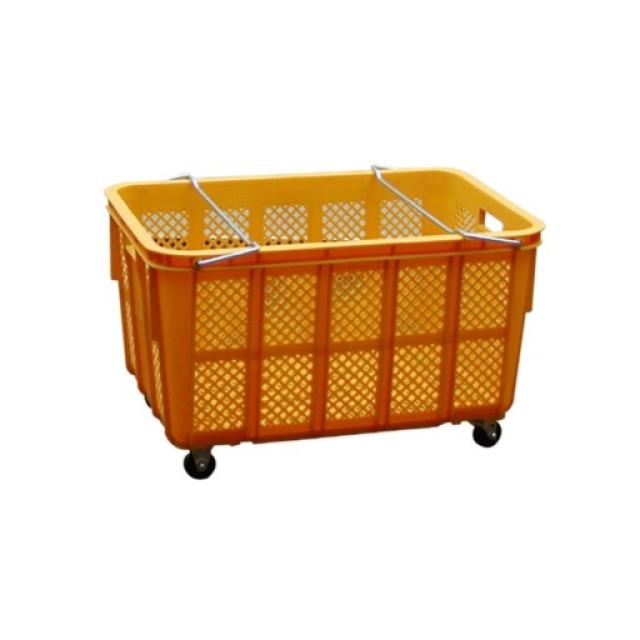basket: (104, 153, 562, 483)
